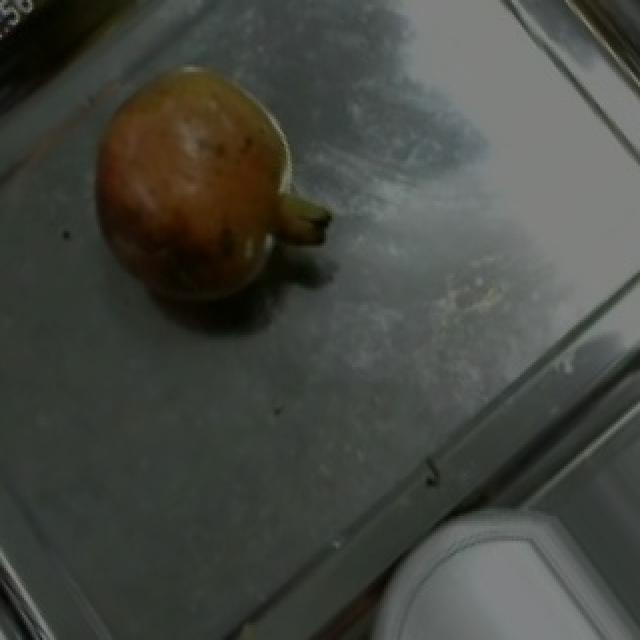fruit: (66, 35, 334, 312)
